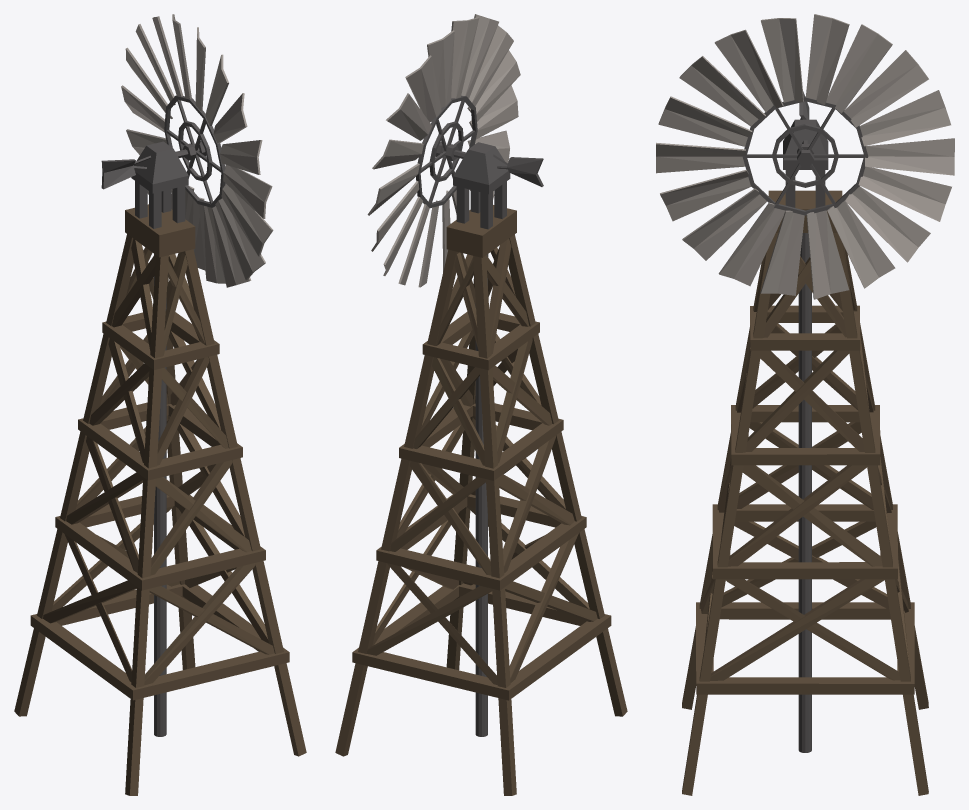
The model's file is Windmühle.fbx.
3 views of the same model, side by side, from view 1: azimuth 30°, elevation 25°; view 2: azimuth 150°, elevation 25°; view 3: azimuth 270°, elevation 25° (orthographic). The views are drawn at different scales.
Visible parts, largest first — view 1: Streben, Windrad_1, Rohr2_1; view 2: Streben, Windrad_1, Rohr2_1; view 3: Streben, Windrad_1, Rohr2_1.
Boxes of the visible parts, box(x1,y1,x2,y2) form: Streben: box(14, 204, 306, 795); Windrad_1: box(121, 14, 273, 287); Rohr2_1: box(101, 95, 225, 736); Streben: box(335, 205, 627, 795); Windrad_1: box(367, 14, 520, 287); Rohr2_1: box(416, 95, 543, 736); Streben: box(682, 190, 928, 795); Windrad_1: box(656, 14, 954, 299); Rohr2_1: box(742, 91, 868, 752).
Size of the model in its own units: 222 by 842 by 304.
